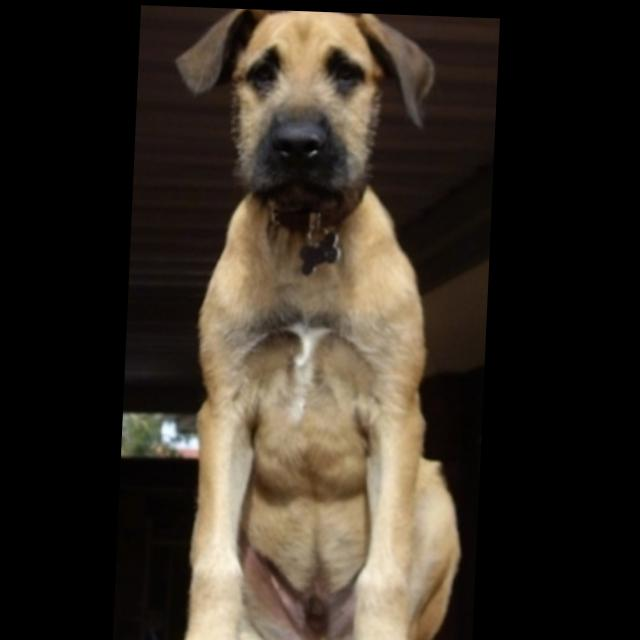other_dog_breed: (155, 6, 487, 640)
